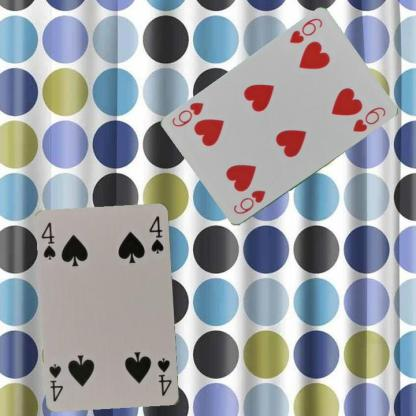4s: (155, 356, 173, 397), (39, 220, 57, 261)
6h: (287, 16, 324, 46), (230, 187, 267, 216)
